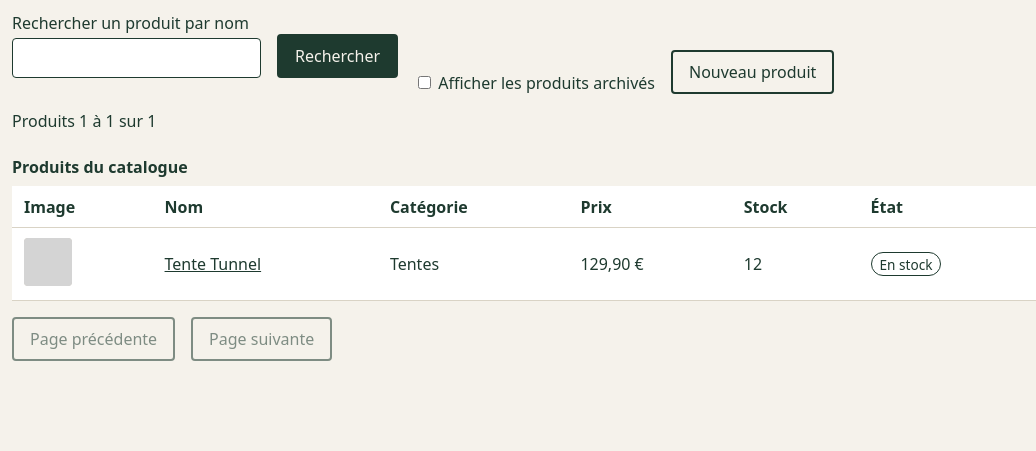
Test: ProductList › filtre les produits archivés et les signale
The width and height of the screenshot is (1036, 451).
Expected: the table is shown, [12,148,1035,301]
Expected: the text "Vieux réchaud" is not shown
Click the checkbox labelled "Afficher les produits archivés".
click(425, 82)  # box [418,76,431,89]
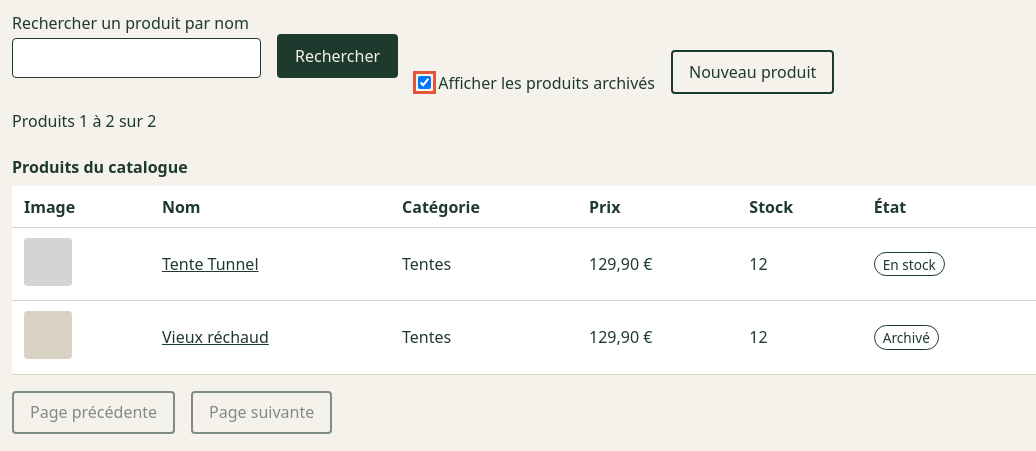
Expected: the text "Archivé" is shown, [874,325,939,350]
